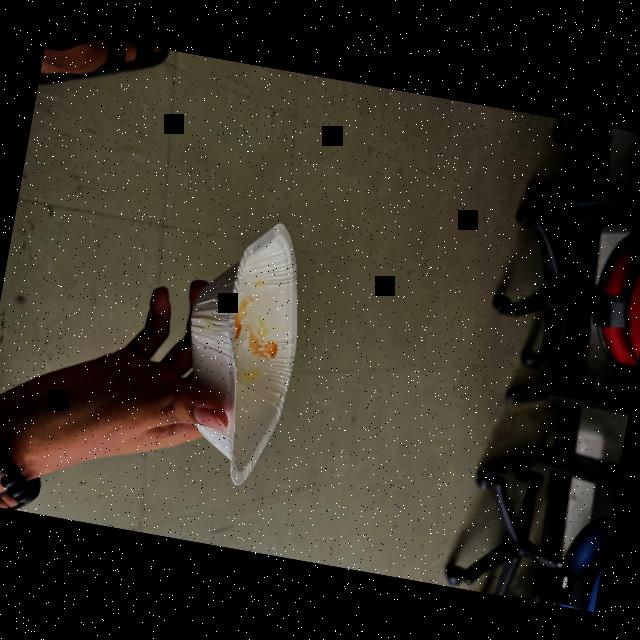cardboard_bowl: (152, 206, 336, 497)
